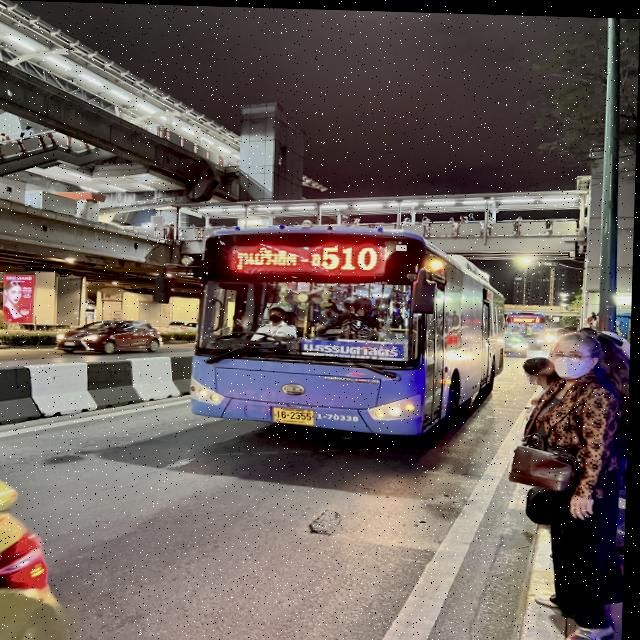BMTA-bus: (188, 221, 511, 439)
Bus-Line-Number: (322, 243, 381, 272)
Destination-Sign-Normal: (301, 336, 412, 361)
